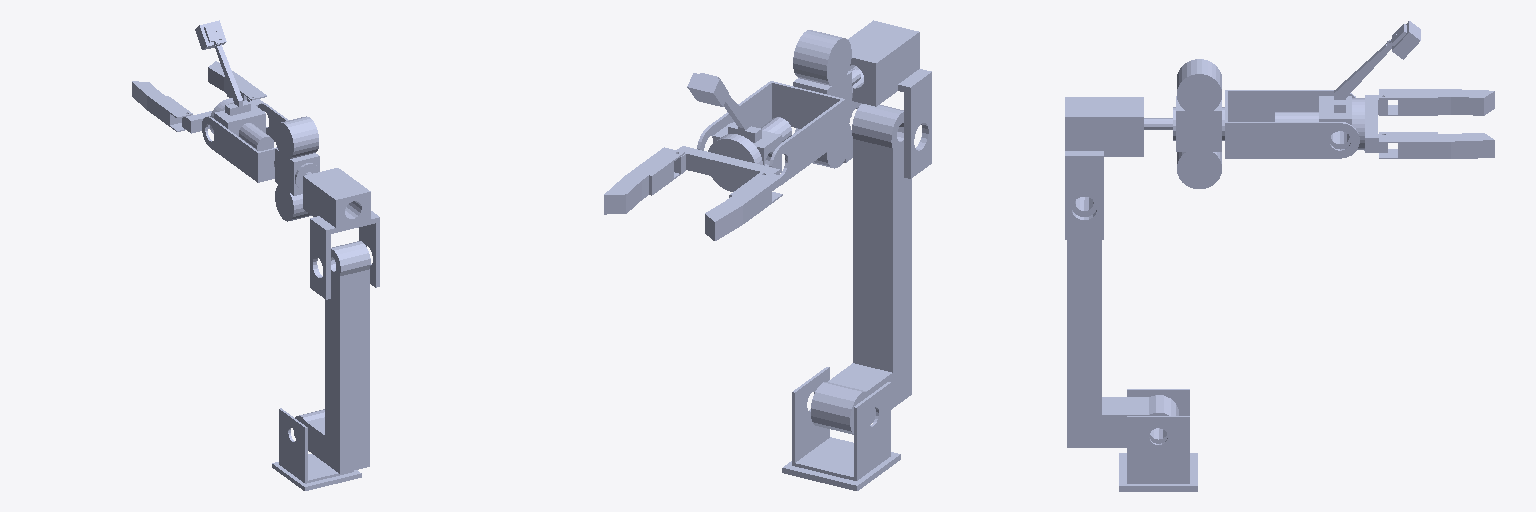
robot.urdf — Arm_URDF_2025:
<?xml version="1.0" encoding="utf-8"?>
<!-- This URDF was automatically created by SolidWorks to URDF Exporter! Originally created by [author] ([email redacted]) 
     Commit Version: 1.6.0-4-g7f85cfe  Build Version: 1.6.7995.38578
     For more information, please see http://wiki.ros.org/sw_urdf_exporter -->
<robot
  name="Arm_URDF_2025">
  <link
    name="base_link">
    <inertial>
      <origin
        xyz="0.06 0.06 0.00437247635063724"
        rpy="0 0 0" />
      <mass
        value="0.124661946710585" />
      <inertia
        ixx="0.000147804282431458"
        ixy="-2.46473848275475E-20"
        ixz="-5.95512543966335E-22"
        iyy="0.000147804282431458"
        iyz="1.60346272184515E-21"
        izz="0.000293922860163162" />
    </inertial>
    <visual>
      <origin
        xyz="0 0 0"
        rpy="0 0 0" />
      <geometry>
        <mesh
          filename="package://simulation/meshes/Arm_URDF_2025/base_link.STL" />
      </geometry>
      <material
        name="">
        <color
          rgba="0.792156862745098 0.819607843137255 0.933333333333333 1" />
      </material>
    </visual>
    <collision>
      <origin
        xyz="0 0 0"
        rpy="0 0 0" />
      <geometry>
        <mesh
          filename="package://simulation/meshes/Arm_URDF_2025/base_link.STL" />
      </geometry>
    </collision>
  </link>
  <link
    name="link_1">
    <inertial>
      <origin
        xyz="-5.48442406074559E-07 -7.17314944642876E-17 0.0336041265825655"
        rpy="0 0 0" />
      <mass
        value="0.137634968166129" />
      <inertia
        ixx="0.000446367257769463"
        ixy="-2.36293542467549E-19"
        ixz="3.10211596816188E-09"
        iyy="0.000294001564310723"
        iyz="3.2777969911918E-19"
        izz="0.000373994827351754" />
    </inertial>
    <visual>
      <origin
        xyz="0 0 0"
        rpy="0 0 0" />
      <geometry>
        <mesh
          filename="package://simulation/meshes/Arm_URDF_2025/link_1.STL" />
      </geometry>
      <material
        name="">
        <color
          rgba="0.792156862745098 0.819607843137255 0.933333333333333 1" />
      </material>
    </visual>
    <collision>
      <origin
        xyz="0 0 0"
        rpy="0 0 0" />
      <geometry>
        <mesh
          filename="package://simulation/meshes/Arm_URDF_2025/link_1.STL" />
      </geometry>
    </collision>
  </link>
  <joint
    name="joint_1"
    type="continuous">
    <origin
      xyz="0.06 0.06 0.0135"
      rpy="0 0 1.57" />
    <parent
      link="base_link" />
    <child
      link="link_1" />
    <axis
      xyz="0 0 -1" />
  </joint>
  <link
    name="link_2">
    <inertial>
      <origin
        xyz="-0.0966215327084988 0.0316225 0.148851302099507"
        rpy="0 0 0" />
      <mass
        value="1.79663833155198" />
      <inertia
        ixx="0.0329129866831077"
        ixy="4.55700567273967E-19"
        ixz="0.00437798607290387"
        iyy="0.0349483664750651"
        iyz="-1.58372106889851E-18"
        izz="0.0032331177263641" />
    </inertial>
    <visual>
      <origin
        xyz="0 0 0"
        rpy="0 0 0" />
      <geometry>
        <mesh
          filename="package://simulation/meshes/Arm_URDF_2025/link_2.STL" />
      </geometry>
      <material
        name="">
        <color
          rgba="0.792156862745098 0.819607843137255 0.933333333333333 1" />
      </material>
    </visual>
    <collision>
      <origin
        xyz="0 0 0"
        rpy="0 0 0" />
      <geometry>
        <mesh
          filename="package://simulation/meshes/Arm_URDF_2025/link_2.STL" />
      </geometry>
    </collision>
  </link>
  <joint
    name="joint_2"
    type="continuous">
    <origin
      xyz="1.24999999999858E-05 -0.03162775 0.0747000000000002"
      rpy="0 0 0" />
    <parent
      link="link_1" />
    <child
      link="link_2" />
    <axis
      xyz="0 -1 0" />
  </joint>
  <link
    name="link_3">
    <inertial>
      <origin
        xyz="0.022527417749687 0.036975 0.0885307406770253"
        rpy="0 0 0" />
      <mass
        value="0.622999243464079" />
      <inertia
        ixx="0.00200228691765054"
        ixy="6.55630474936292E-20"
        ixz="-0.000294247168897306"
        iyy="0.0020516448574634"
        iyz="-5.6058962694986E-19"
        izz="0.00138625401056328" />
    </inertial>
    <visual>
      <origin
        xyz="0 0 0"
        rpy="0 0 0" />
      <geometry>
        <mesh
          filename="package://simulation/meshes/Arm_URDF_2025/link_3.STL" />
      </geometry>
      <material
        name="">
        <color
          rgba="0.792156862745098 0.819607843137255 0.933333333333333 1" />
      </material>
    </visual>
    <collision>
      <origin
        xyz="0 0 0"
        rpy="0 0 0" />
      <geometry>
        <mesh
          filename="package://simulation/meshes/Arm_URDF_2025/link_3.STL" />
      </geometry>
    </collision>
  </link>
  <joint
    name="joint_3"
    type="continuous">
    <origin
      xyz="-0.112992 0 0.384077"
      rpy="0 0 0" />
    <parent
      link="link_2" />
    <child
      link="link_3" />
    <axis
      xyz="0 1 0" />
  </joint>
  <link
    name="link_4">
    <inertial>
      <origin
        xyz="0.10524344492505 -7.05797014825815E-08 0"
        rpy="0 0 0" />
      <mass
        value="0.970122911594951" />
      <inertia
        ixx="0.00243457030866732"
        ixy="4.63516303360271E-09"
        ixz="-1.67537061699453E-19"
        iyy="0.00385833789304732"
        iyz="-8.80629759801178E-19"
        izz="0.00256309318654037" />
    </inertial>
    <visual>
      <origin
        xyz="0 0 0"
        rpy="0 0 0" />
      <geometry>
        <mesh
          filename="package://simulation/meshes/Arm_URDF_2025/link_4.STL" />
      </geometry>
      <material
        name="">
        <color
          rgba="0.792156862745098 0.819607843137255 0.933333333333333 1" />
      </material>
    </visual>
    <collision>
      <origin
        xyz="0 0 0"
        rpy="0 0 0" />
      <geometry>
        <mesh
          filename="package://simulation/meshes/Arm_URDF_2025/link_4.STL" />
      </geometry>
    </collision>
  </link>
  <joint
    name="joint_4"
    type="continuous">
    <origin
      xyz="0.084452 0.036975 0.115"
      rpy="0 0 0" />
    <parent
      link="link_3" />
    <child
      link="link_4" />
    <axis
      xyz="1 0 0" />
  </joint>
  <link
    name="link_5">
    <inertial>
      <origin
        xyz="-0.0198884732871961 0.0406401113330525 0.00629862989332275"
        rpy="0 0 0" />
      <mass
        value="0.284717288401274" />
      <inertia
        ixx="0.000299965546841619"
        ixy="-1.58843113349382E-09"
        ixz="-8.63807918048834E-05"
        iyy="0.000511230229605918"
        iyz="-2.43986556603002E-09"
        izz="0.000420975876271412" />
    </inertial>
    <visual>
      <origin
        xyz="0 0 0"
        rpy="0 0 0" />
      <geometry>
        <mesh
          filename="package://simulation/meshes/Arm_URDF_2025/link_5.STL" />
      </geometry>
      <material
        name="">
        <color
          rgba="0.792156862745098 0.819607843137255 0.933333333333333 1" />
      </material>
    </visual>
    <collision>
      <origin
        xyz="0 0 0"
        rpy="0 0 0" />
      <geometry>
        <mesh
          filename="package://simulation/meshes/Arm_URDF_2025/link_5.STL" />
      </geometry>
    </collision>
  </link>
  <joint
    name="joint_5"
    type="continuous">
    <origin
      xyz="0.305479 -0.0406420000000001 0"
      rpy="0 0 0" />
    <parent
      link="link_4" />
    <child
      link="link_5" />
    <axis
      xyz="0 -1 0" />
  </joint>
  <link
    name="link_6">
    <inertial>
      <origin
        xyz="0.00692827119863587 3.3907380514453E-09 1.11022302462516E-16"
        rpy="0 0 0" />
      <mass
        value="0.175170524925624" />
      <inertia
        ixx="0.000293643764169239"
        ixy="-1.03961089729387E-11"
        ixz="2.2784964648173E-20"
        iyy="5.11611215542502E-05"
        iyz="-1.11398912388781E-20"
        izz="0.00026066688002045" />
    </inertial>
    <visual>
      <origin
        xyz="0 0 0"
        rpy="0 0 0" />
      <geometry>
        <mesh
          filename="package://simulation/meshes/Arm_URDF_2025/link_6.STL" />
      </geometry>
      <material
        name="">
        <color
          rgba="0.792156862745098 0.819607843137255 0.933333333333333 1" />
      </material>
    </visual>
    <collision>
      <origin
        xyz="0 0 0"
        rpy="0 0 0" />
      <geometry>
        <mesh
          filename="package://simulation/meshes/Arm_URDF_2025/link_6.STL" />
      </geometry>
    </collision>
  </link>
  <joint
    name="joint_6"
    type="continuous">
    <origin
      xyz="0.032 0.04064 0"
      rpy="0 0 0" />
    <parent
      link="link_5" />
    <child
      link="link_6" />
    <axis
      xyz="1 0 0" />
  </joint>
  <link
    name="finger_1">
    <inertial>
      <origin
        xyz="0.0855523666641121 0.00980197809754374 -0.015"
        rpy="0 0 0" />
      <mass
        value="0.131585801201098" />
      <inertia
        ixx="2.06584333808883E-05"
        ixy="-1.27622966682436E-06"
        ixz="2.59268411809251E-20"
        iyy="0.000250311821820243"
        iyz="-7.77707182589073E-22"
        izz="0.000250190068564209" />
    </inertial>
    <visual>
      <origin
        xyz="0 0 0"
        rpy="0 0 0" />
      <geometry>
        <mesh
          filename="package://simulation/meshes/Arm_URDF_2025/finger_1.STL" />
      </geometry>
      <material
        name="">
        <color
          rgba="0.792156862745098 0.819607843137255 0.933333333333333 1" />
      </material>
    </visual>
    <collision>
      <origin
        xyz="0 0 0"
        rpy="0 0 0" />
      <geometry>
        <mesh
          filename="package://simulation/meshes/Arm_URDF_2025/finger_1.STL" />
      </geometry>
    </collision>
  </link>
  <joint
    name="finger_joint_1"
    type="continuous">
    <origin
      xyz="0.0342469999999999 0.0690450000000001 0.0150000000000005"
      rpy="0 0 0" />
    <parent
      link="link_6" />
    <child
      link="finger_1" />
    <axis
      xyz="0 0 1" />
  </joint>
  <link
    name="finger_2">
    <inertial>
      <origin
        xyz="0.0855523666641121 -0.00980197809754374 -0.0150000000000001"
        rpy="0 0 0" />
      <mass
        value="0.131585801201098" />
      <inertia
        ixx="2.06584333808883E-05"
        ixy="1.2762296668244E-06"
        ixz="4.6284791662046E-20"
        iyy="0.000250311821820244"
        iyz="4.87544459169818E-21"
        izz="0.00025019006856421" />
    </inertial>
    <visual>
      <origin
        xyz="0 0 0"
        rpy="0 0 0" />
      <geometry>
        <mesh
          filename="package://simulation/meshes/Arm_URDF_2025/finger_2.STL" />
      </geometry>
      <material
        name="">
        <color
          rgba="0.792156862745098 0.819607843137255 0.933333333333333 1" />
      </material>
    </visual>
    <collision>
      <origin
        xyz="0 0 0"
        rpy="0 0 0" />
      <geometry>
        <mesh
          filename="package://simulation/meshes/Arm_URDF_2025/finger_2.STL" />
      </geometry>
    </collision>
  </link>
  <joint
    name="finger_joint_2"
    type="continuous">
    <origin
      xyz="0.0342469999999999 -0.0690460000000001 0.015"
      rpy="0 0 0" />
    <parent
      link="link_6" />
    <child
      link="finger_2" />
    <axis
      xyz="0 0 -1" />
  </joint>
  <link
    name="camera_link">
    <inertial>
      <origin
        xyz="0.0237078925078273 0.00399999999999998 0.00849517559098378"
        rpy="0 0 0" />
      <mass
        value="0.0455289011770119" />
      <inertia
        ixx="1.08276639266657E-05"
        ixy="1.63536654407214E-21"
        ixz="-2.23258863162784E-06"
        iyy="8.28802476045037E-06"
        iyz="-3.16596447731408E-21"
        izz="1.00403327015078E-05" />
    </inertial>
    <visual>
      <origin
        xyz="0 0 0"
        rpy="0 0 0" />
      <geometry>
        <mesh
          filename="package://simulation/meshes/Arm_URDF_2025/camera_link.STL" />
      </geometry>
      <material
        name="">
        <color
          rgba="0.792156862745098 0.819607843137255 0.933333333333333 1" />
      </material>
    </visual>
    <collision>
      <origin
        xyz="0 0 0"
        rpy="0 0 0" />
      <geometry>
        <mesh
          filename="package://simulation/meshes/Arm_URDF_2025/camera_link.STL" />
      </geometry>
    </collision>
  </link>
  <joint
    name="camera_joint"
    type="continuous">
    <origin
      xyz="0.0756084691443581 0.0366419123913177 0.133665837449048"
      rpy="0 0 0" />
    <parent
      link="link_5" />
    <child
      link="camera_link" />
    <axis
      xyz="0 1 0" />
  </joint>
</robot>

--- What the picture shows (computed from the rendered views, not written in the file) ---
Views: 3 orthographic renders of the robot side by side, from view 1: azimuth 30°, elevation 25°; view 2: azimuth 150°, elevation 25°; view 3: azimuth 270°, elevation 25°.
Robot: Arm_URDF_2025 — 10 links, 9 joints (9 continuous); root link base_link; default pose: every joint at zero.
Visible links, largest first — view 1: link_2, link_4, link_3, link_5, link_1, finger_1, finger_2, base_link, camera_link, link_6; view 2: link_2, link_4, link_3, link_1, link_6, finger_2, finger_1, link_5, base_link, camera_link; view 3: link_4, link_2, link_3, link_1, finger_2, finger_1, link_5, link_6, base_link, camera_link.
Link boxes in pixels (left/top/right/bottom): link_2: left=293, top=241, right=370, bottom=473; link_4: left=202, top=103, right=319, bottom=221; link_3: left=303, top=168, right=379, bottom=299; link_5: left=214, top=42, right=273, bottom=150; link_1: left=279, top=408, right=353, bottom=483; finger_1: left=132, top=81, right=192, bottom=131; finger_2: left=208, top=61, right=266, bottom=100; base_link: left=272, top=454, right=361, bottom=490; camera_link: left=195, top=20, right=226, bottom=49; link_6: left=182, top=98, right=264, bottom=133; link_2: left=811, top=104, right=911, bottom=434; link_4: left=697, top=30, right=860, bottom=185; link_3: left=843, top=20, right=931, bottom=178; link_1: left=792, top=367, right=890, bottom=480; link_6: left=674, top=134, right=779, bottom=191; finger_2: left=604, top=147, right=684, bottom=214; finger_1: left=705, top=171, right=782, bottom=240; link_5: left=713, top=95, right=791, bottom=172; base_link: left=782, top=437, right=900, bottom=490; camera_link: left=687, top=73, right=728, bottom=106; link_4: left=1144, top=59, right=1359, bottom=188; link_2: left=1067, top=197, right=1178, bottom=447; link_3: left=1065, top=97, right=1143, bottom=239; link_1: left=1127, top=389, right=1189, bottom=483; finger_2: left=1379, top=132, right=1494, bottom=158; finger_1: left=1379, top=89, right=1494, bottom=115; link_5: left=1275, top=40, right=1392, bottom=149; link_6: left=1352, top=95, right=1387, bottom=152; base_link: left=1119, top=453, right=1197, bottom=491; camera_link: left=1389, top=21, right=1420, bottom=59.
Size in the robot's own frame: 0.1897 by 0.656 by 0.752 metres.
10 mesh visuals loaded from 10 distinct referenced files (10 binary STL).